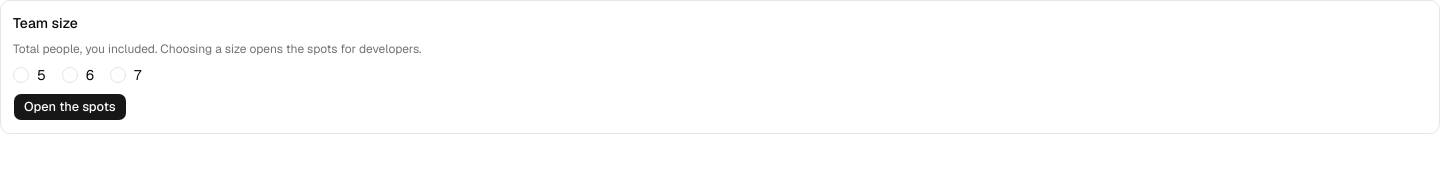
Test: SetTeamSize › saves the chosen total and refreshes the page
Click the 2nd radio button named "6" at (70, 75), box [62,67,78,83]
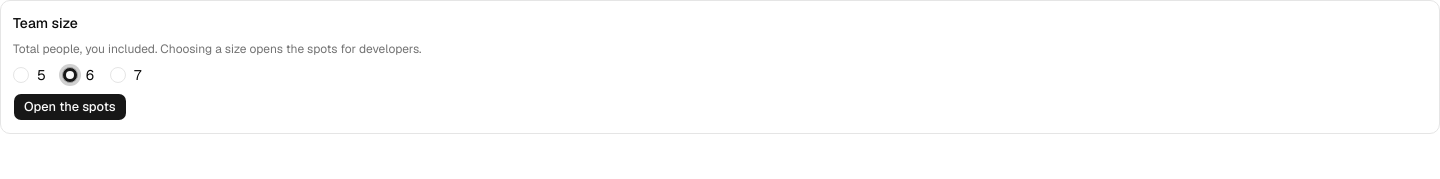
Click the button "Open the spots" at (70, 107), box [13,93,127,121]
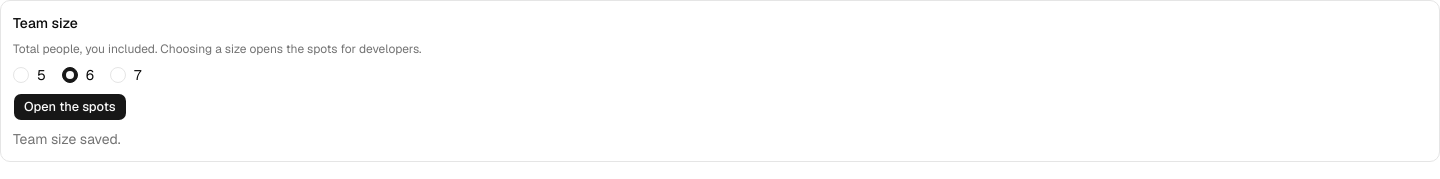
Result: the message reads "Team size saved." at [13,130,120,148]
